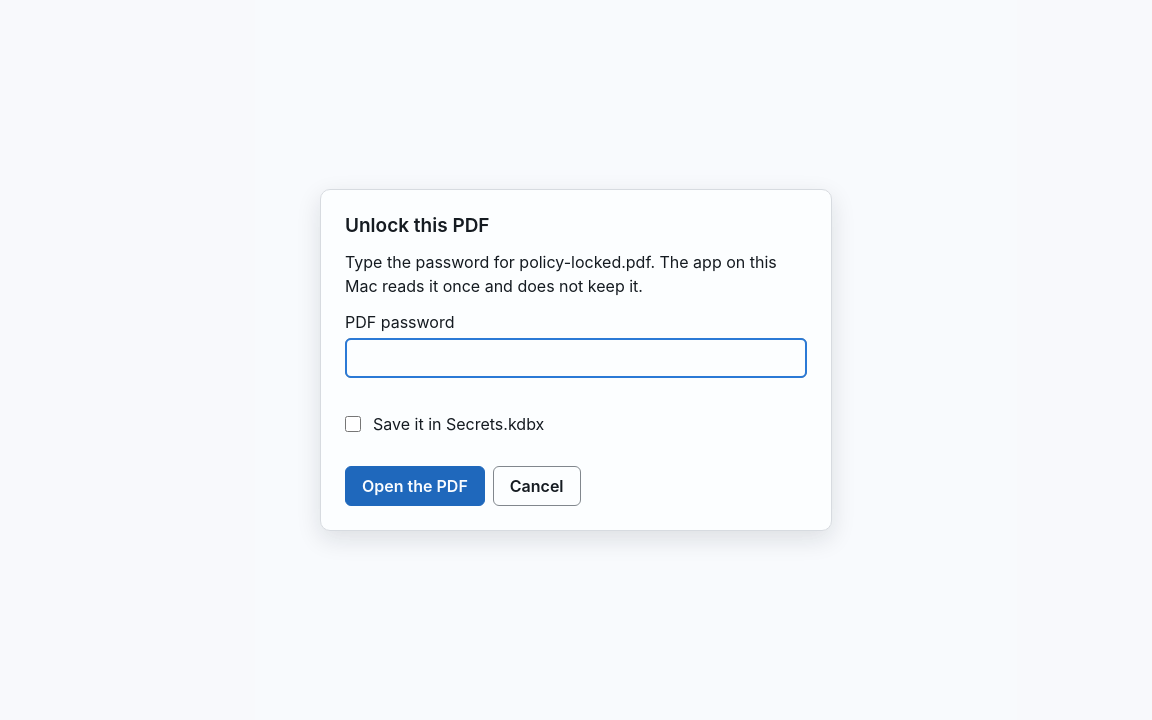
Test: UnlockDialog › does not send an empty password
Click the button "Open the PDF" at (415, 486), box top-left (345, 466), bottom-right (485, 506)
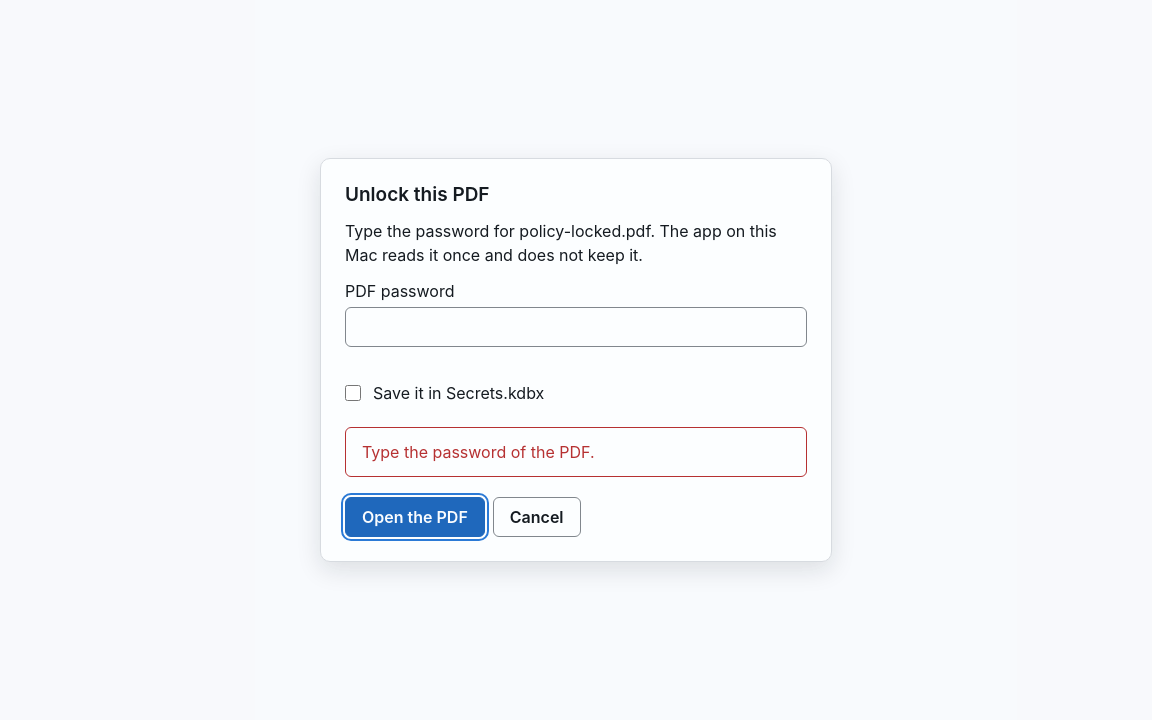
Expected: the message reads "Type the password of the PDF.", top-left (362, 442), bottom-right (595, 462)
